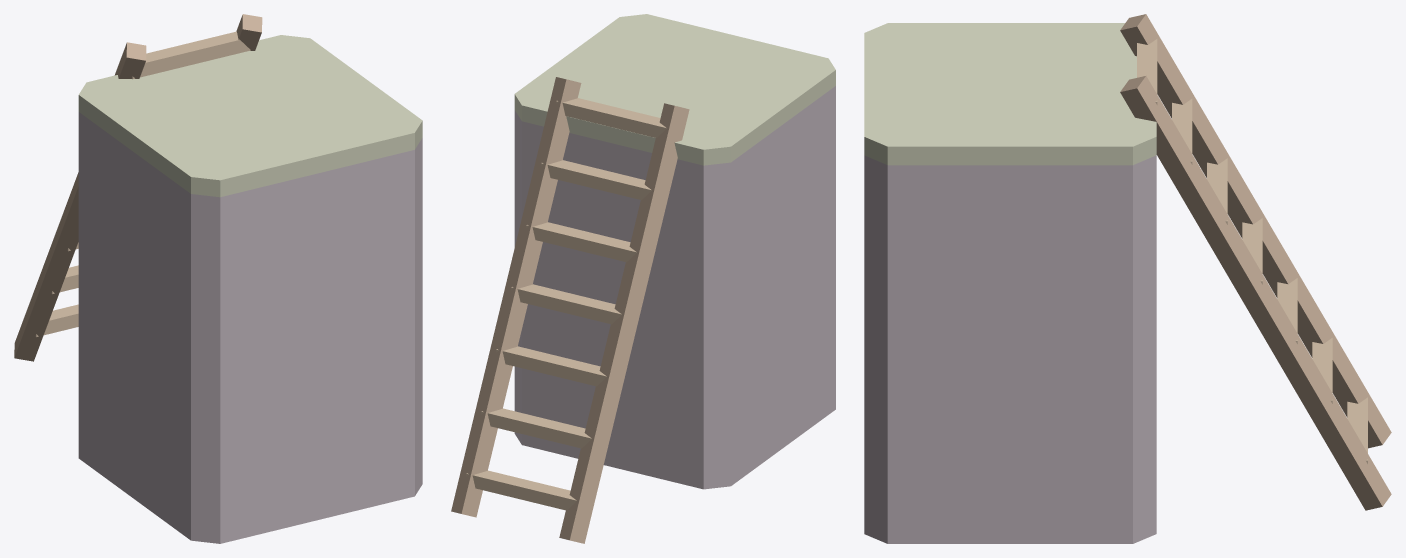
Rendered from ladder.glb.
3 renders of one model, left to right at view 1: azimuth 30°, elevation 25°; view 2: azimuth 150°, elevation 25°; view 3: azimuth 270°, elevation 25°, orthographic. The views are drawn at different scales.
Visible parts, largest first — view 1: ladder_998793, ladder_ADB18A, ladder_8C6B51, ladder_AA8865; view 2: ladder_998793, ladder_ADB18A, ladder_8C6B51, ladder_AA8865; view 3: ladder_998793, ladder_ADB18A, ladder_8C6B51, ladder_AA8865.
Boxes of the visible parts, x1=… form: ladder_998793: x1=78, y1=112, x2=422, y2=543; ladder_ADB18A: x1=78, y1=35, x2=422, y2=197; ladder_8C6B51: x1=14, y1=14, x2=262, y2=361; ladder_AA8865: x1=35, y1=31, x2=250, y2=337; ladder_998793: x1=514, y1=86, x2=835, y2=489; ladder_ADB18A: x1=514, y1=14, x2=835, y2=165; ladder_8C6B51: x1=451, y1=77, x2=689, y2=543; ladder_AA8865: x1=466, y1=98, x2=666, y2=510; ladder_998793: x1=864, y1=155, x2=1156, y2=543; ladder_ADB18A: x1=864, y1=23, x2=1156, y2=165; ladder_8C6B51: x1=1120, y1=14, x2=1391, y2=510; ladder_AA8865: x1=1137, y1=39, x2=1367, y2=463.
Bounding box in the file's own units: 1 × 1.64 × 1.8.
